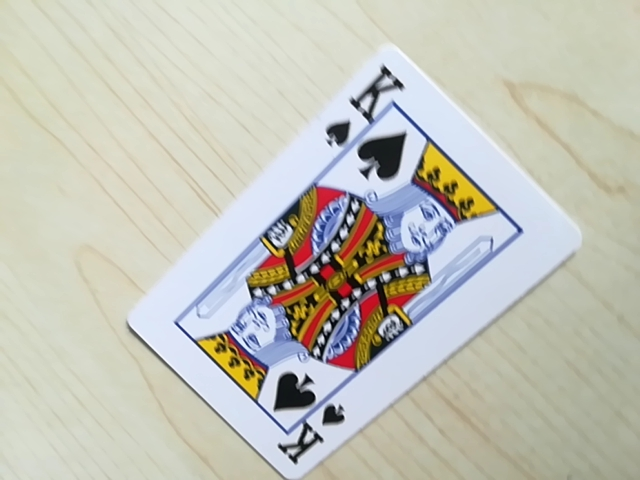ht k: (318, 53, 401, 172), (268, 402, 349, 473)
